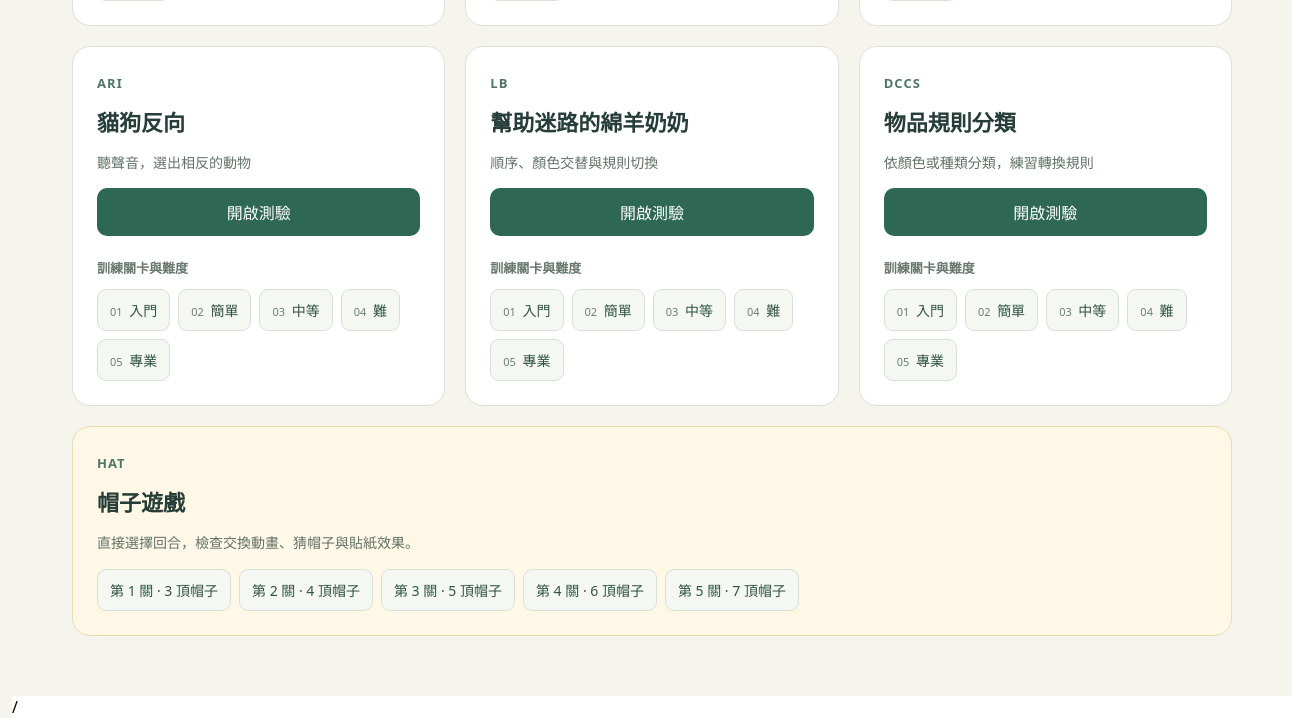
Test case: lists six assessments, all 30 training levels, and all five hat rounds
(page scrolled)
Click the button "05 專業" below "順序、顏色交替與規則切換" at point(527, 360), box [490,339,564,381]
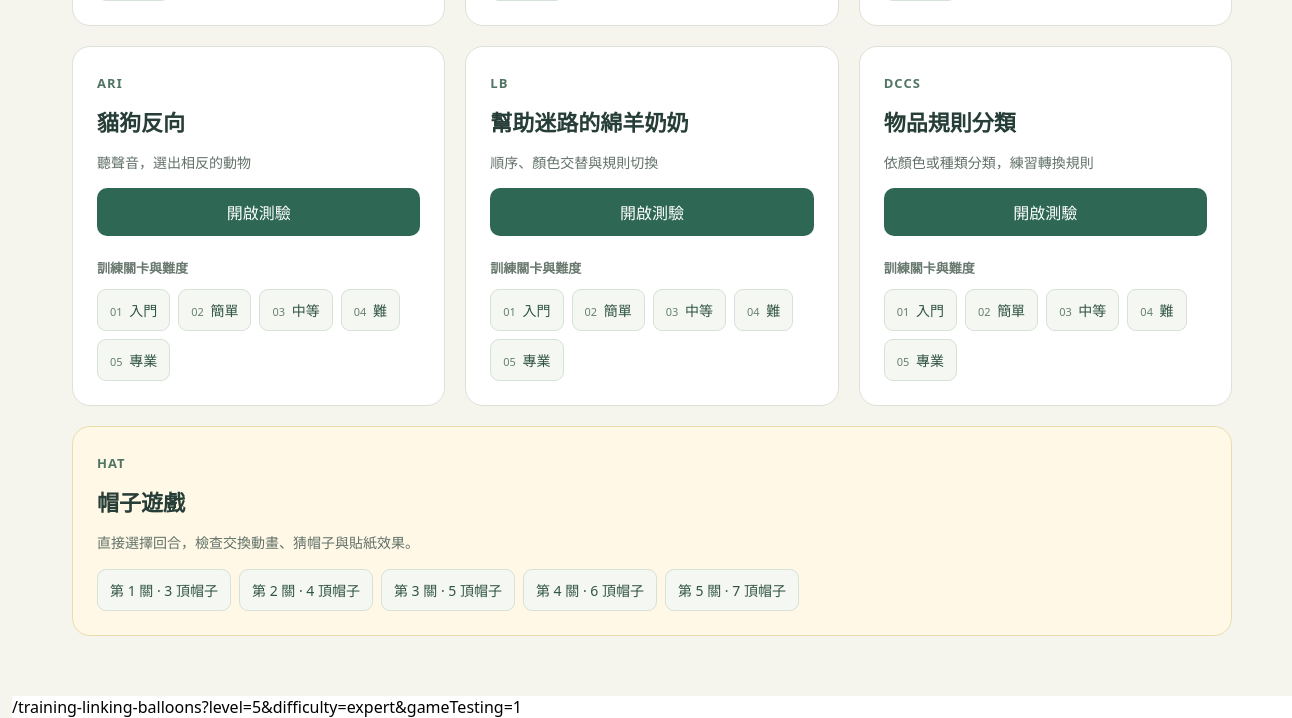
Check: the text with test id "location" reads "/training-linking-balloons?level=5&difficulty=expert&gameTesting=1", box [12,696,522,717]
Click the button "05 專業" below "依顏色或種類分類，練習轉換規則" at point(920, 360), box [884,339,957,381]
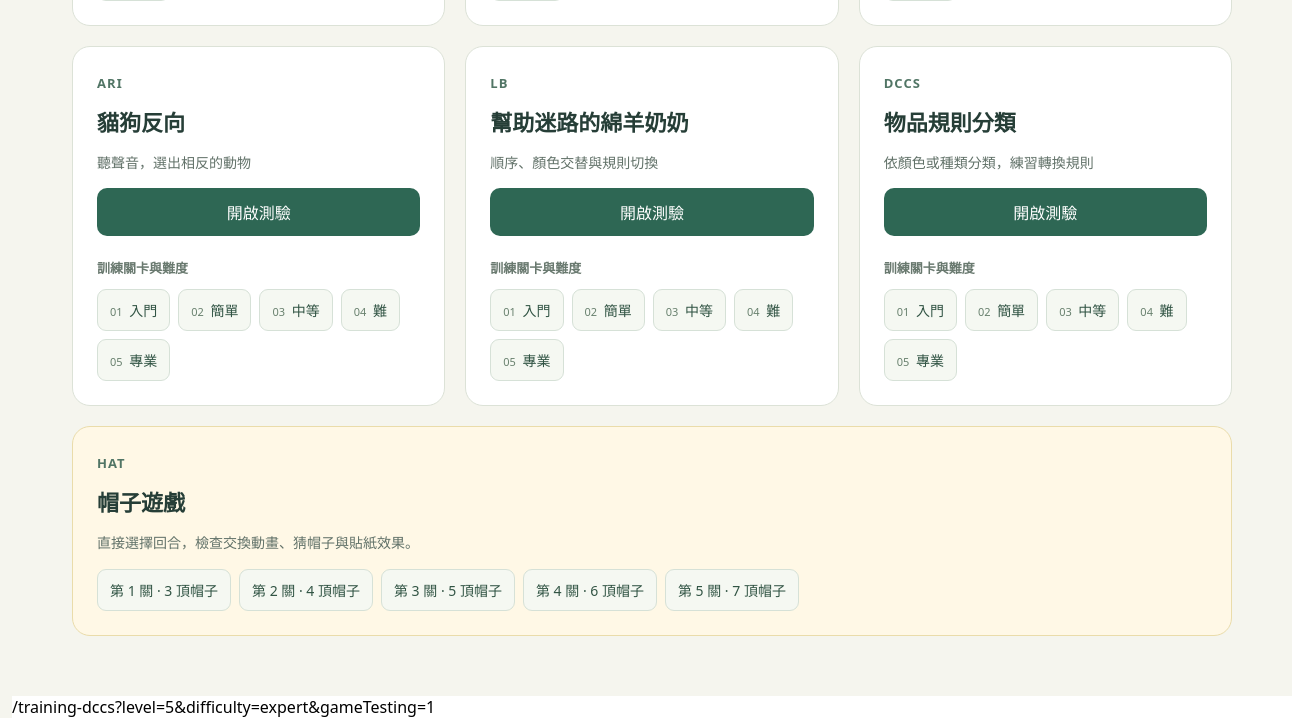
Check: the text with test id "location" reads "/training-dccs?level=5&difficulty=expert&gameTesting=1", box [12,696,435,717]
Click the button "05 專業" below "聽聲音，選出相反的動物" at point(134, 360), box [97,339,170,381]
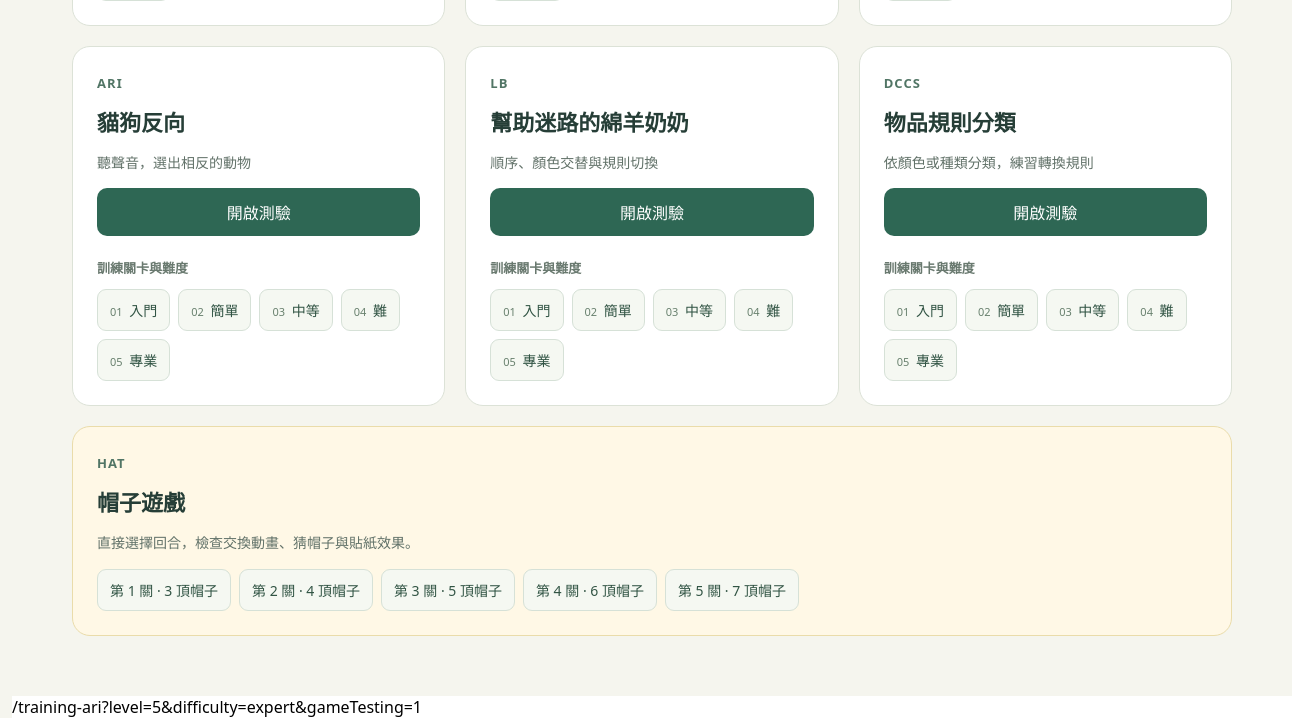
Check: the text with test id "location" reads "/training-ari?level=5&difficulty=expert&gameTesting=1", box [12,696,422,717]
Click the button "第 5 關 · 7 頂帽子" at point(732, 590), box [665,569,799,611]
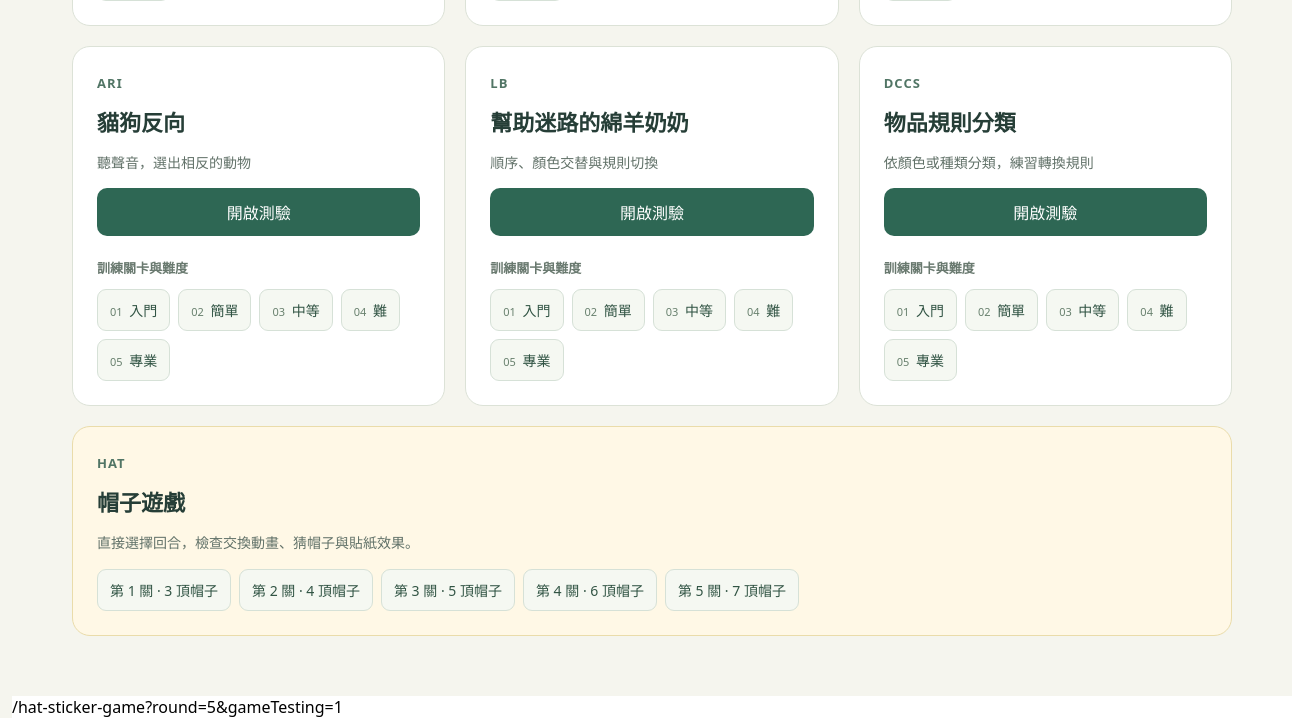
Check: the text with test id "location" reads "/hat-sticker-game?round=5&gameTesting=1", box [12,696,343,717]
